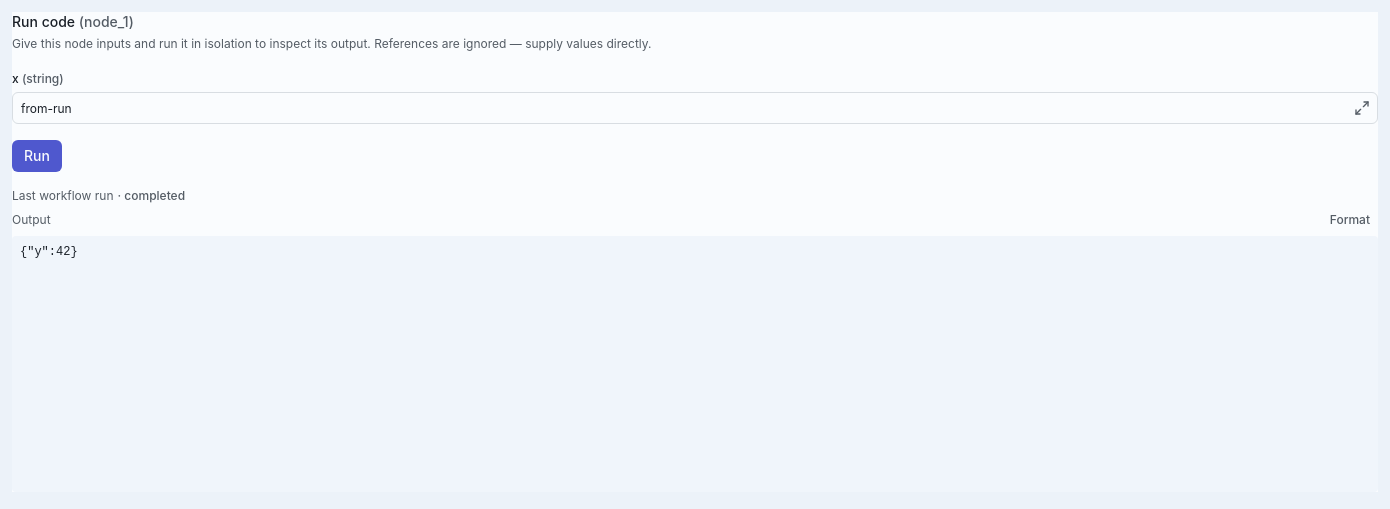
Test: NodeExecutePanel — last workflow-run autofill › dedups the output boxes: a node-debug run supersedes the last workflow run
Click the button with test id "node-exec-run": (37, 156) [12,140,62,172]
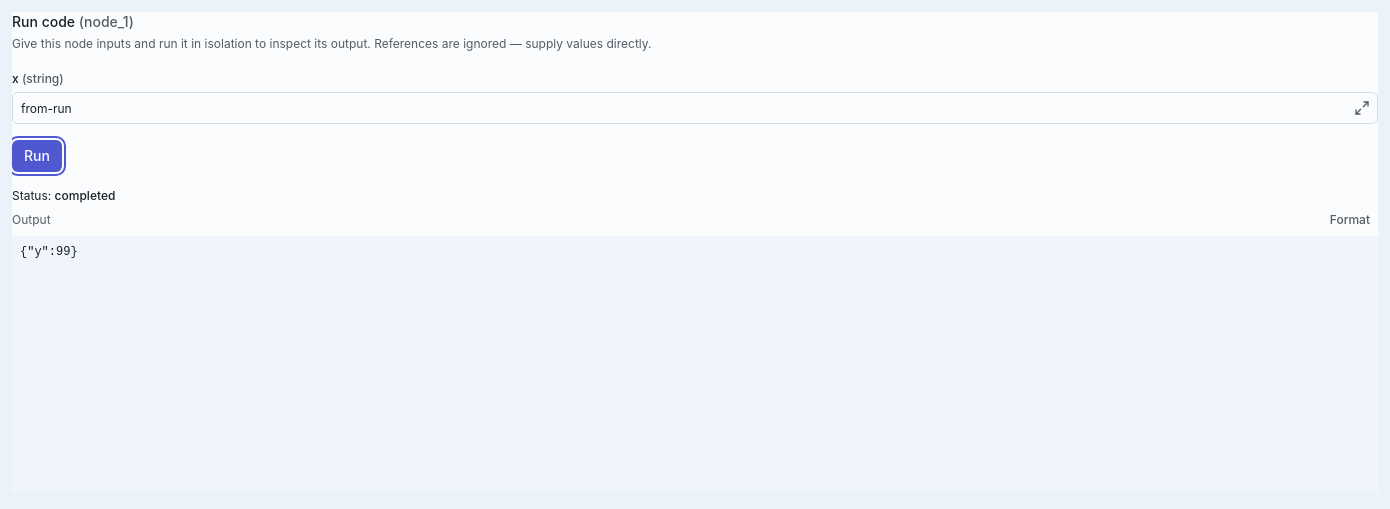
Expected: the element with test id "node-exec-lastrun" is gone
Expected: the element with test id "node-exec-log" is shown, [12,188,1378,492]
Expected: the text with test id "node-exec-result" shows "\"y\":99", [20,245,78,259]
